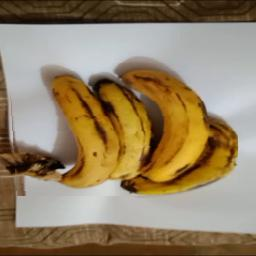Banana Semifresh: (8, 64, 238, 197)
